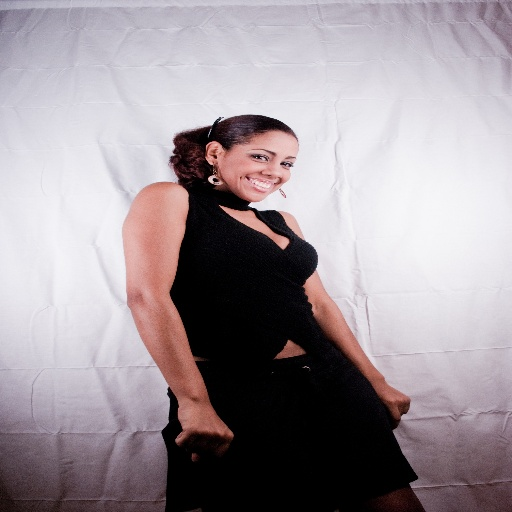hand: (167, 381, 237, 465), (377, 382, 411, 430)
